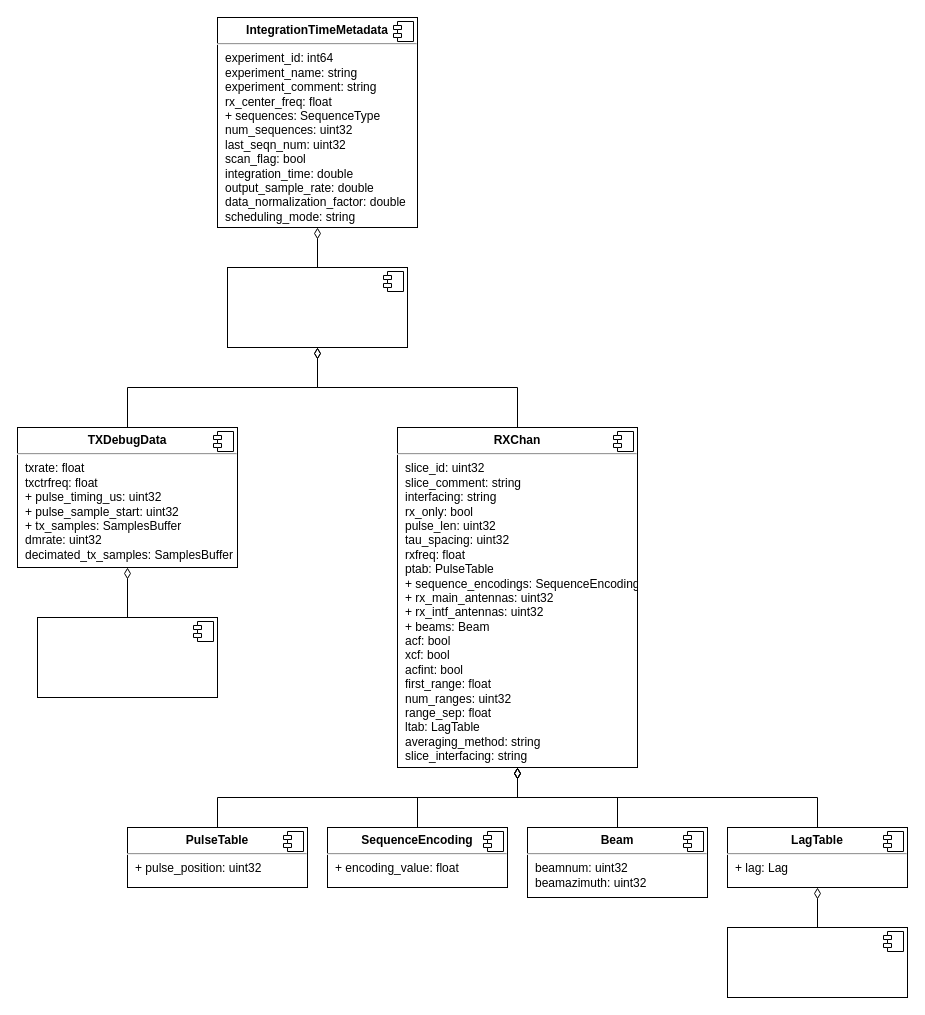
Some shapes in this 925 by 1015 pixel diagram are drawn without their labels. The shapes that lost their labels are listed below. From the top down, each one's box as (x1, y1, x2, y2) in pixels, then its label:
(226, 266, 408, 348): SequenceType + rxchannel: RXChan + blanks: uint32 tx_data: TXDebugData
(36, 616, 218, 698): SamplesBuffer + real: double + imag: double tx_antenna_number: uint32
(726, 926, 908, 998): Lag + pulse_position: uint32 lag_num: uint32
